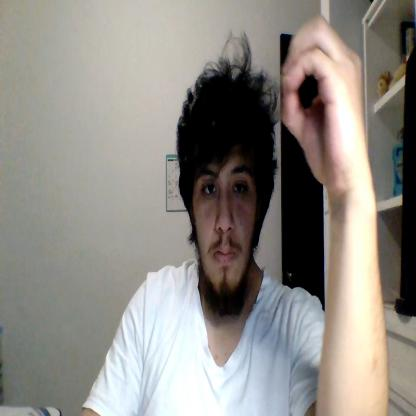O: (282, 16, 363, 186)
